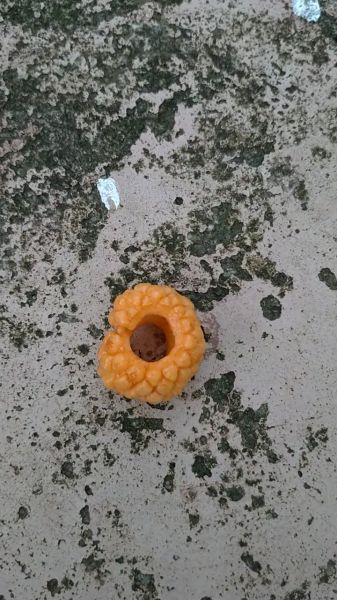eggs: (96, 276, 211, 407)
